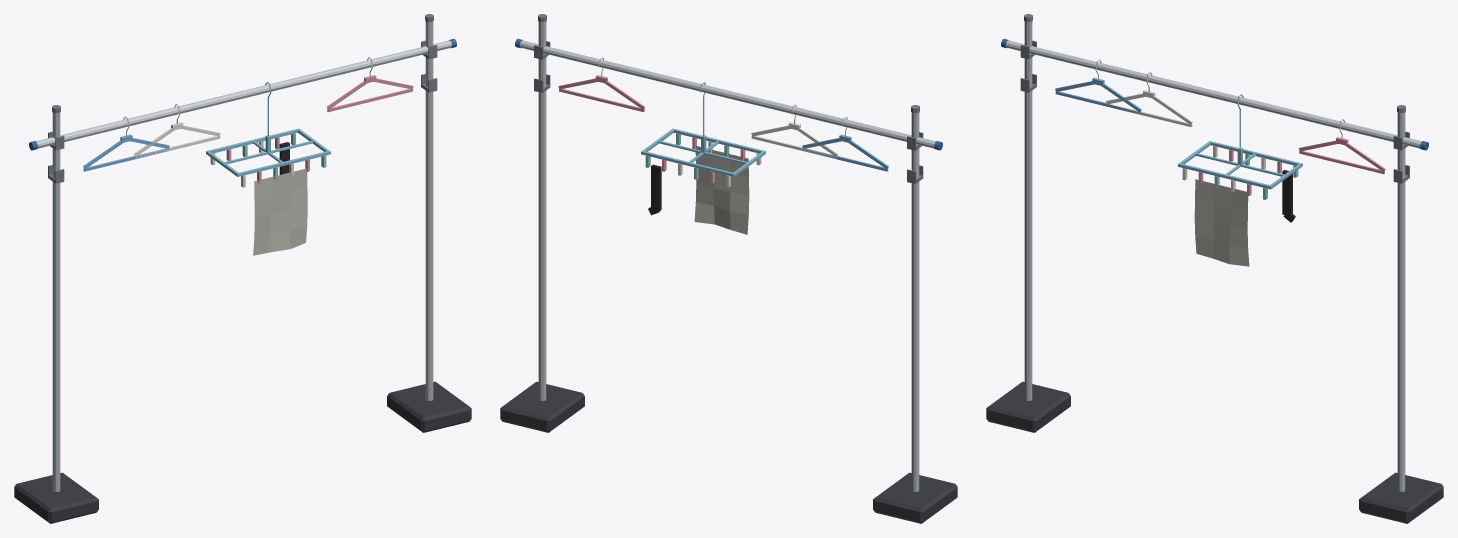
Rendered from laundry_pole.glb.
The picture shows the model from 3 angles, left to right: view 1: azimuth 30°, elevation 25°; view 2: azimuth 150°, elevation 25°; view 3: azimuth 330°, elevation 25°; orthographic projection.
Visible parts, largest first — view 1: body; view 2: body; view 3: body.
Boxes of the visible parts, x1,y1,x2,y2 form: body: [14, 14, 471, 523]; body: [500, 14, 957, 523]; body: [986, 14, 1443, 523].
Bounding box in the file's own units: 2 × 1.8 × 0.3.
